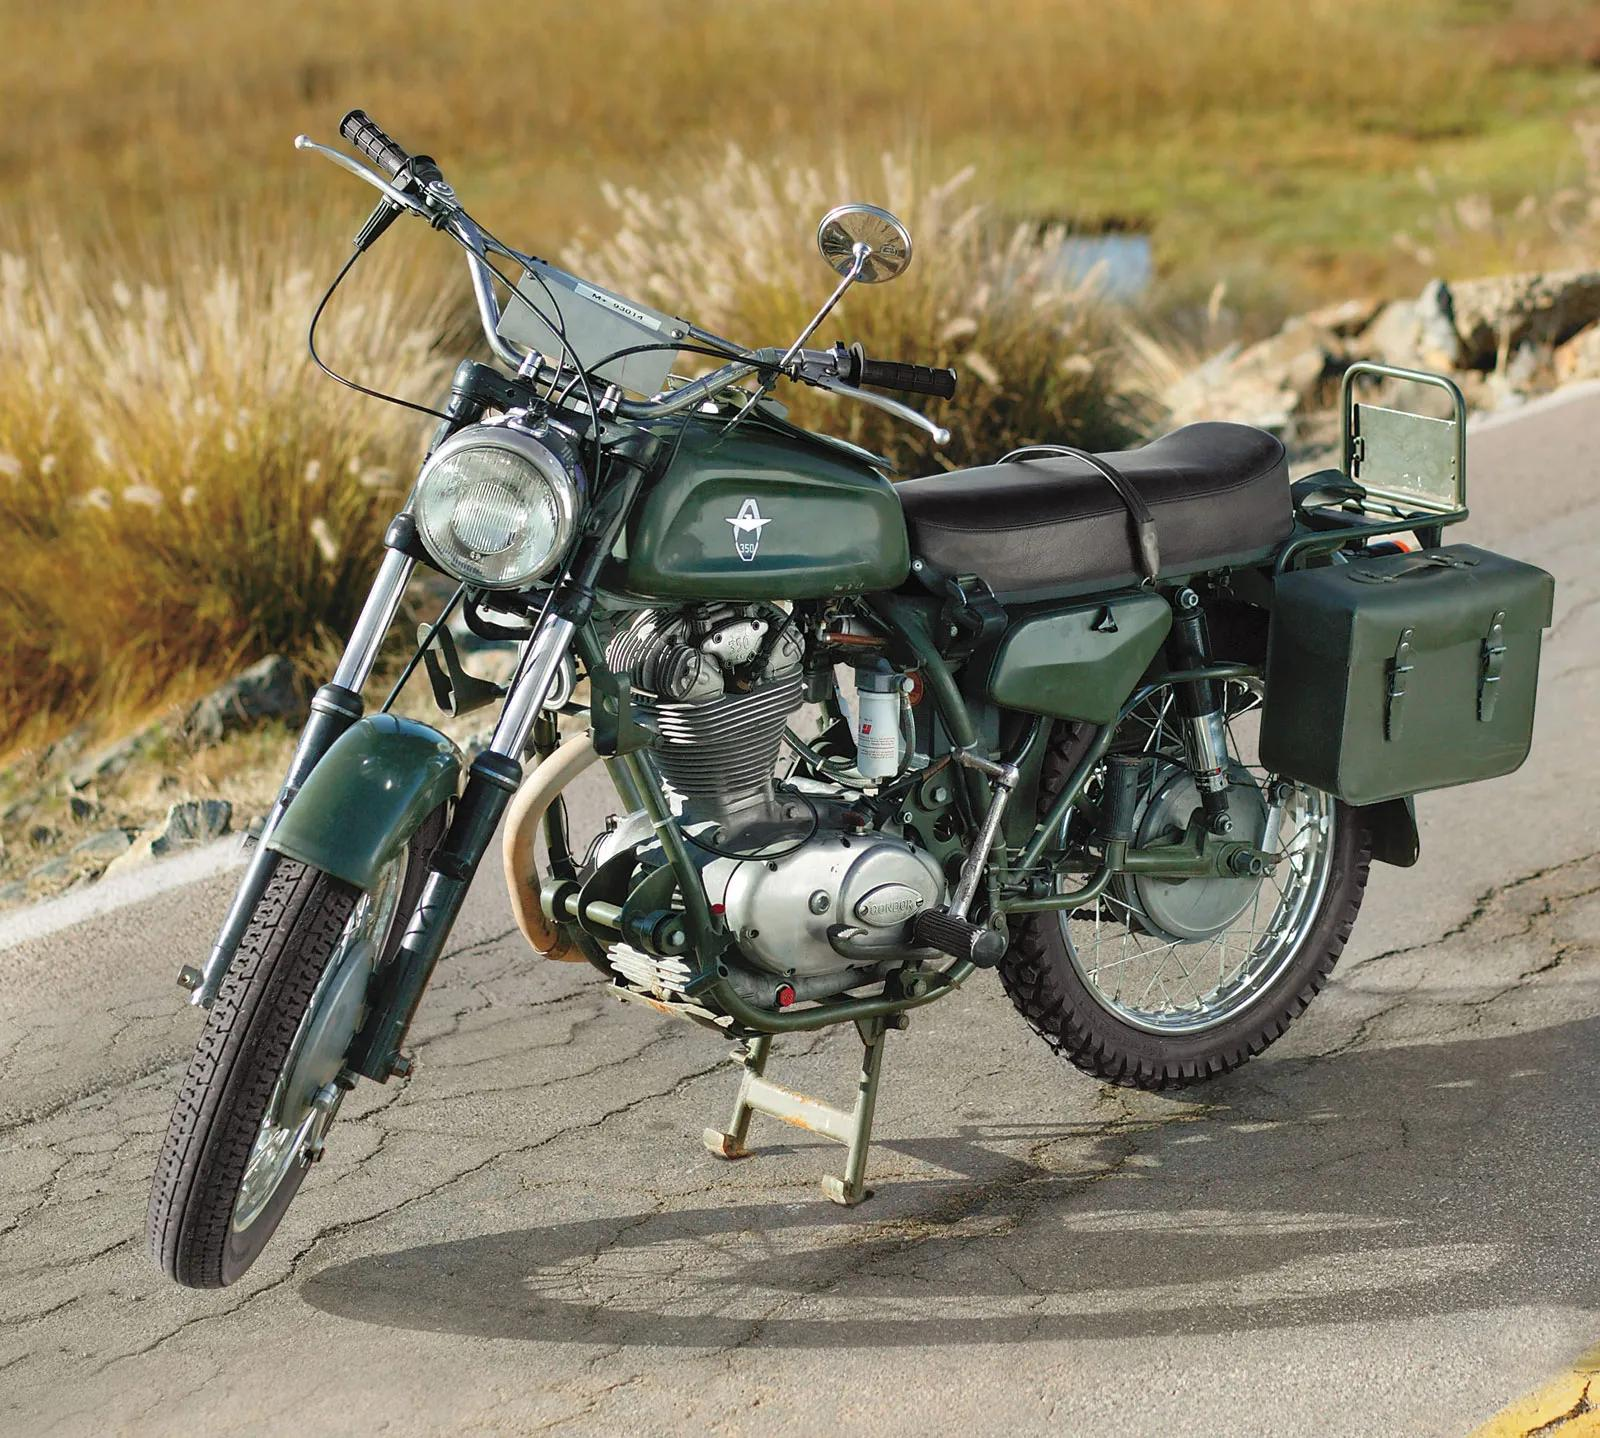motorcycle: (117, 101, 1563, 1303)
